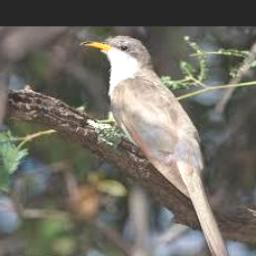Cuckoo: (80, 36, 233, 256)
